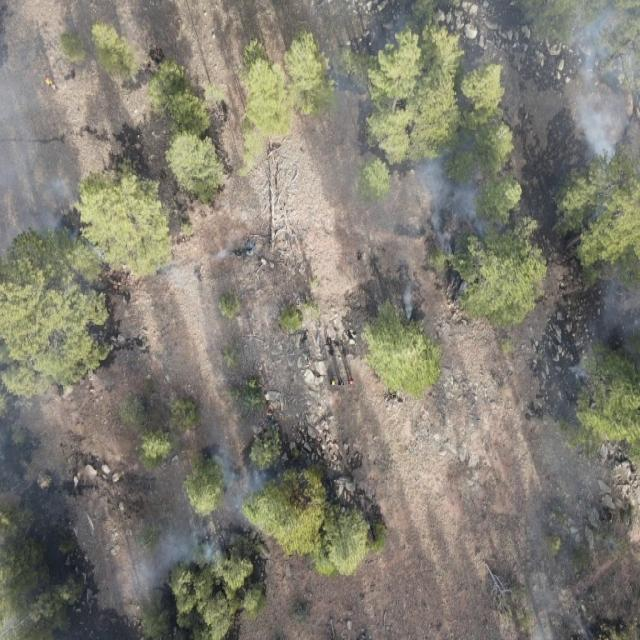fire: (266, 406, 276, 416)
smoke: (94, 415, 319, 616), (530, 0, 640, 384), (0, 0, 83, 252), (380, 142, 516, 266)
